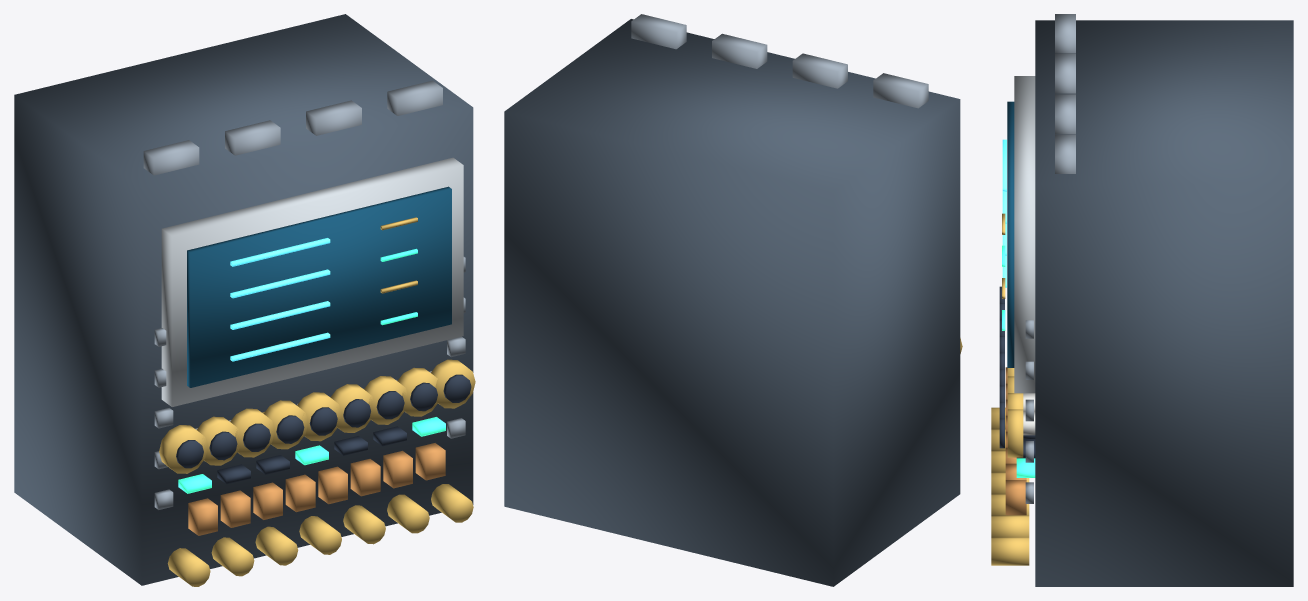
Rendered from 73_L87_Protected5VControlSupply.glb.
3 views of the same model, side by side, from view 1: azimuth 30°, elevation 25°; view 2: azimuth 150°, elevation 25°; view 3: azimuth 270°, elevation 25° (orthographic).
Parts seen in each view (by area): view 1: L87_Protected5VControlSupply, L87_Protected5VControlSupply_Part_0010, L87_Protected5VControlSupply_Part_0026, L87_Protected5VControlSupply_Part_0014, L87_Protected5VControlSupply_Part_0022, L87_Protected5VControlSupply_Part_0016, L87_Protected5VControlSupply_Part_0012, L87_Protected5VControlSupply_Part_0018, L87_Protected5VControlSupply_Part_0024, L87_Protected5VControlSupply_Part_0020, L87_Protected5VControlSupply_Part_0019, L87_Protected5VControlSupply_Part_0013 (+7 smaller); view 2: L87_Protected5VControlSupply; view 3: L87_Protected5VControlSupply, L87_Protected5VControlSupply_Part_0026.
Part boxes in pixels (left/top/right/bottom): L87_Protected5VControlSupply: left=14, top=14, right=473, bottom=586; L87_Protected5VControlSupply_Part_0010: left=159, top=425, right=207, bottom=473; L87_Protected5VControlSupply_Part_0026: left=431, top=359, right=475, bottom=408; L87_Protected5VControlSupply_Part_0014: left=230, top=408, right=274, bottom=457; L87_Protected5VControlSupply_Part_0022: left=364, top=376, right=407, bottom=424; L87_Protected5VControlSupply_Part_0016: left=263, top=400, right=308, bottom=449; L87_Protected5VControlSupply_Part_0012: left=197, top=416, right=240, bottom=465; L87_Protected5VControlSupply_Part_0018: left=297, top=392, right=341, bottom=441; L87_Protected5VControlSupply_Part_0024: left=397, top=367, right=437, bottom=416; L87_Protected5VControlSupply_Part_0020: left=330, top=384, right=373, bottom=432; L87_Protected5VControlSupply_Part_0019: left=309, top=407, right=337, bottom=435; L87_Protected5VControlSupply_Part_0013: left=209, top=431, right=237, bottom=460; L87_Protected5VControlSupply: left=504, top=14, right=960, bottom=586; L87_Protected5VControlSupply: left=991, top=14, right=1293, bottom=586; L87_Protected5VControlSupply_Part_0026: left=1007, top=409, right=1023, bottom=457.
Bounding box in the file's own units: 1.04 × 1.24 × 0.8109.
